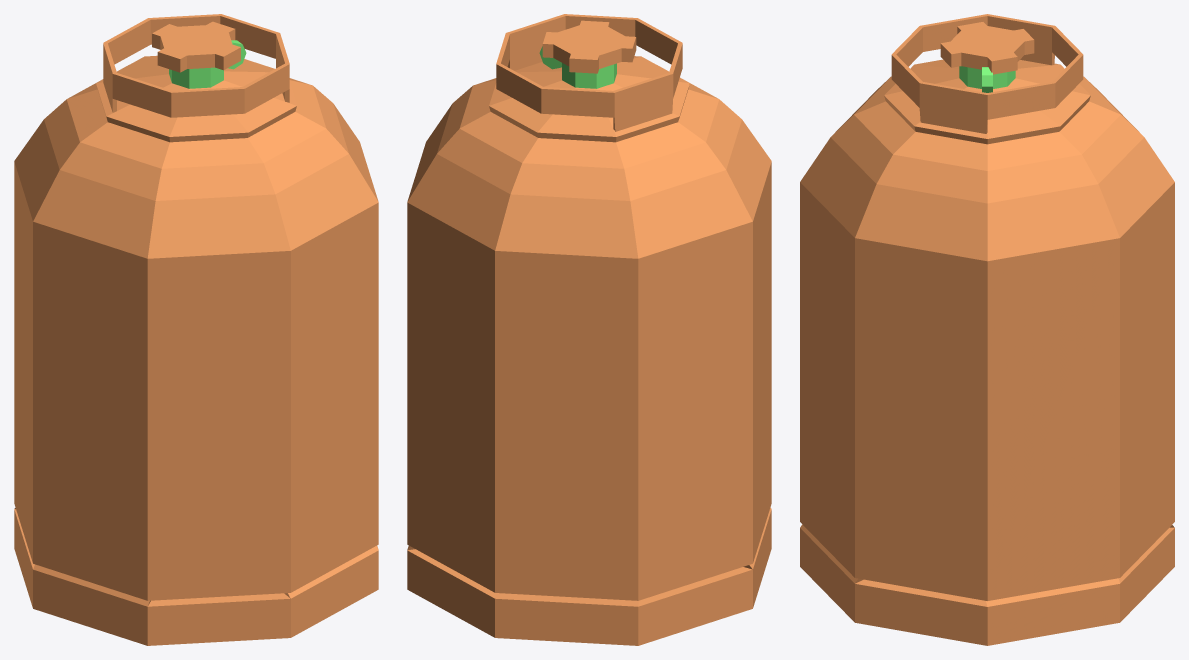
The model's file is Gas_Big.fbx.
3 renders of one model, left to right at view 1: azimuth 30°, elevation 25°; view 2: azimuth 150°, elevation 25°; view 3: azimuth 270°, elevation 25°, orthographic.
Visible parts, largest first — view 1: Gas_Big; view 2: Gas_Big; view 3: Gas_Big.
Boxes of the visible parts, x1=… form: Gas_Big: x1=14, y1=14, x2=378, y2=645; Gas_Big: x1=407, y1=14, x2=771, y2=645; Gas_Big: x1=800, y1=14, x2=1174, y2=645.
Bounding box in the file's own units: 167 × 257 × 167.
